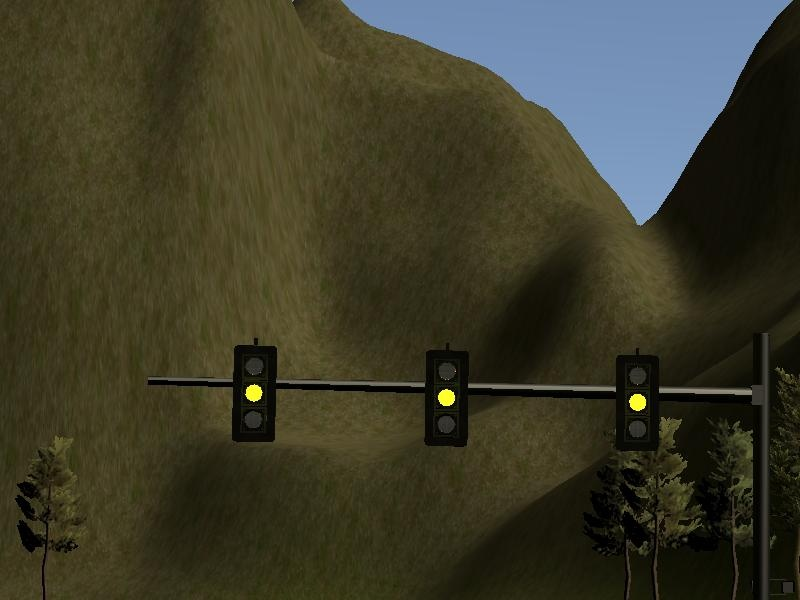yellow: (415, 338, 474, 453), (606, 345, 667, 456), (228, 334, 281, 448)
